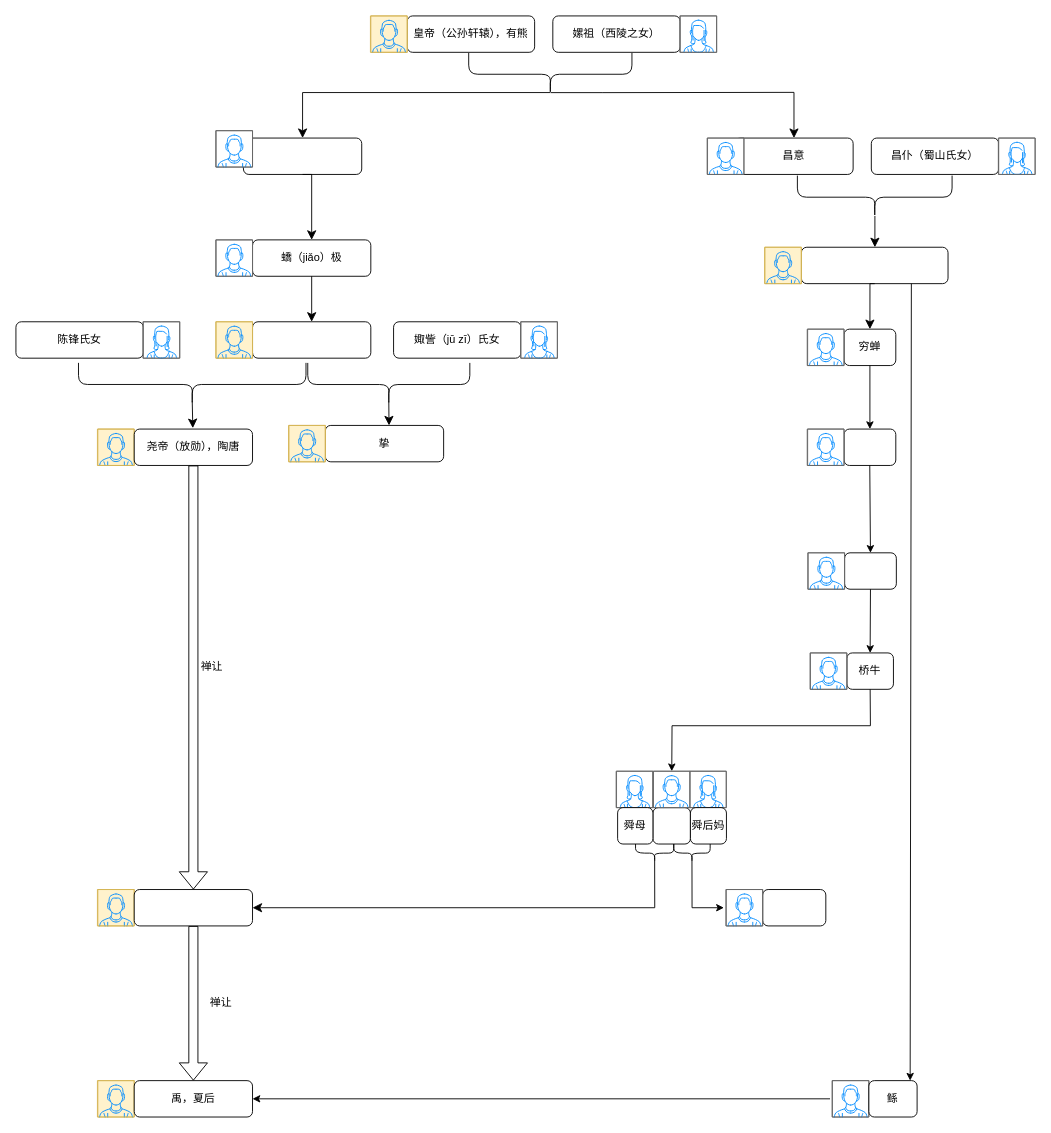
Image size: 1051x1133. Some labels were removed from this diagram. The shapes that lost their labels are listed below. From the top down, each one's box as (x1, y1, x2, y2) in pixels, then its label:
(243, 137, 362, 174): 玄嚣（青阳）
(800, 246, 948, 284): 颛顼（zhuān xū）帝，高阳
(252, 321, 371, 358): 帝喾（kù），高辛
(843, 428, 896, 465): 敬康
(844, 552, 896, 589): 句望
(652, 807, 690, 844): 瞽叟
(133, 889, 253, 926): 舜帝（姚重华），有虞
(762, 889, 826, 926): 象（舜弟弟）
